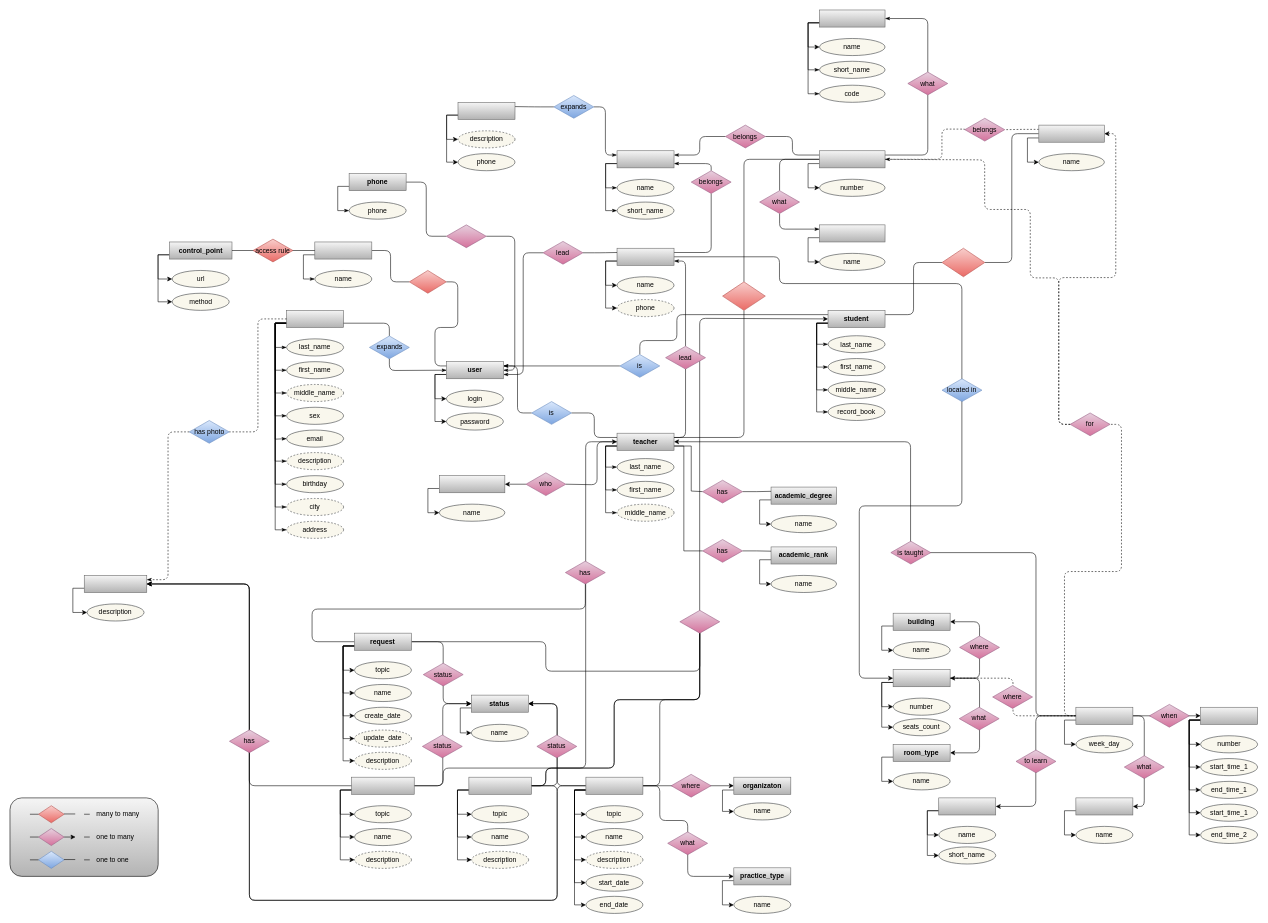
The diagram is 1268 pixels wide and 923 high, and some of its shapes have lost their labels. Here are the shapes that lost their labels. From the top down, the box of each, then its label:
(819, 9, 885, 27): speciality
(457, 102, 515, 119): faculty_info
(1038, 125, 1104, 142): subgroup
(616, 150, 674, 168): faculty
(819, 150, 885, 168): group
(314, 241, 372, 259): role
(446, 224, 486, 248): phones
(819, 224, 885, 242): study_mode
(616, 248, 674, 265): department
(941, 248, 985, 277): affiliation
(409, 270, 446, 293): user role
(722, 281, 765, 310): curator
(286, 310, 344, 327): user_info
(439, 475, 505, 493): position
(84, 575, 147, 593): resource
(679, 610, 720, 633): whose
(893, 669, 950, 687): lecture_room
(1075, 707, 1133, 724): lesson
(1200, 707, 1258, 724): lesson_number
(351, 777, 414, 794): term_paper
(468, 777, 531, 794): graduation_paper
(585, 777, 643, 794): practice
(938, 797, 996, 815): discipline
(1075, 797, 1133, 815): lesson_type
